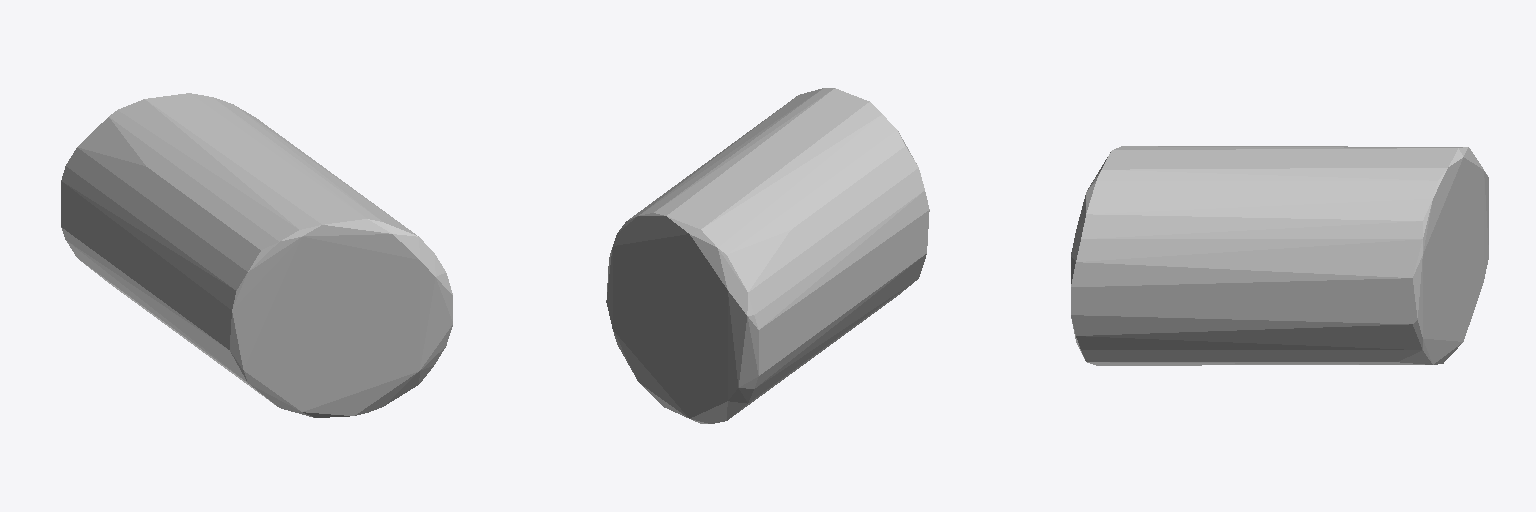
Rendered from cylinder_parallogram.obj.
The picture shows the model from 3 angles: view 1: azimuth 30°, elevation 25°; view 2: azimuth 150°, elevation 25°; view 3: azimuth 270°, elevation 25°; orthographic projection.
Visible parts, largest first — view 1: convex_0; view 2: convex_0; view 3: convex_0.
Boxes of the visible parts, x1,y1,x2,y2 form: convex_0: [61, 93, 452, 417]; convex_0: [606, 88, 929, 423]; convex_0: [1071, 146, 1488, 365].
Bounding box in the file's own units: 25.99 × 25.99 × 50.74.